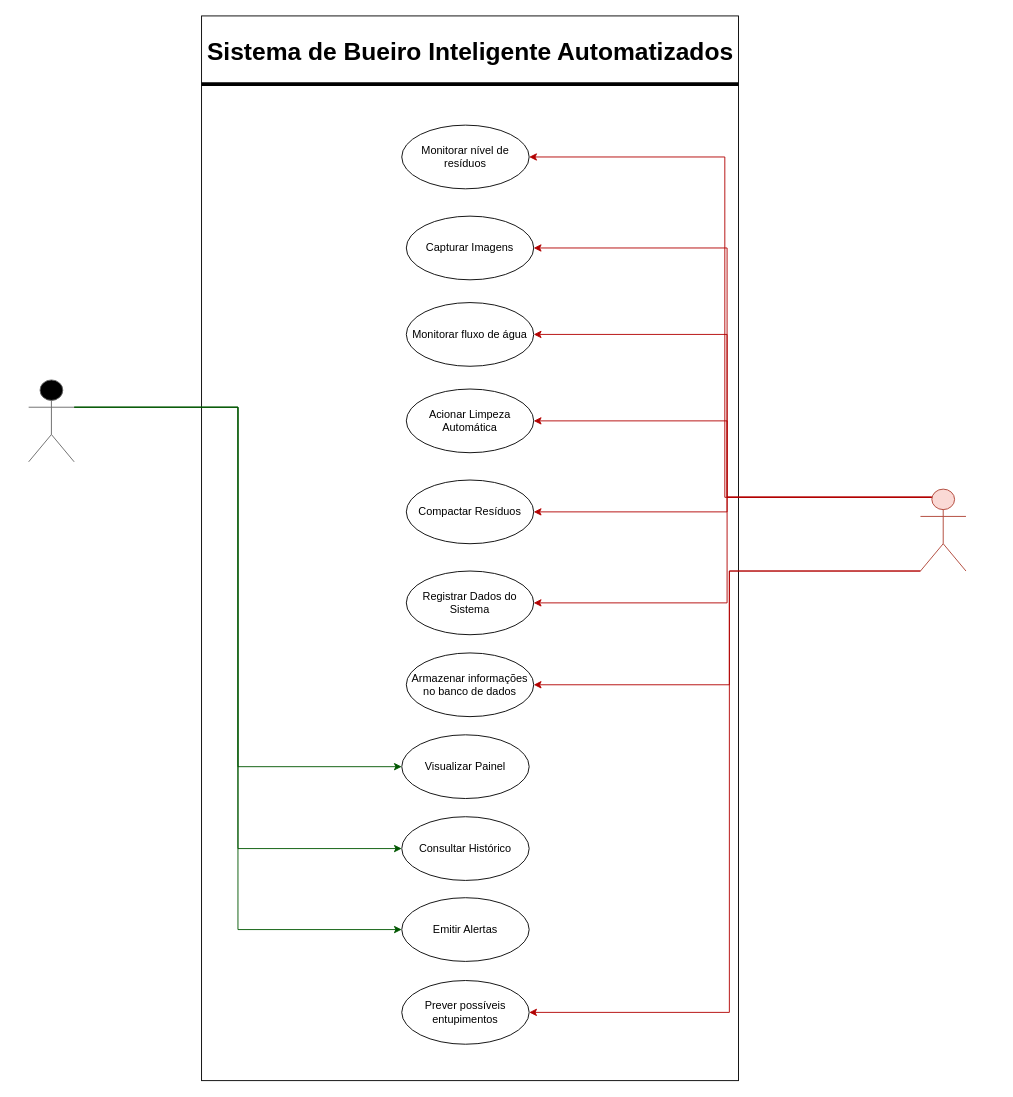
Some shapes in this 1013 by 1097 pixel diagram are drawn without their labels. The shapes that lost their labels are listed below. From the top down, each one's centre as x and y in pixels, then its label:
At [51,420]: "Gestor Urbano".
At [943,529]: "Sistema Automatizado".
